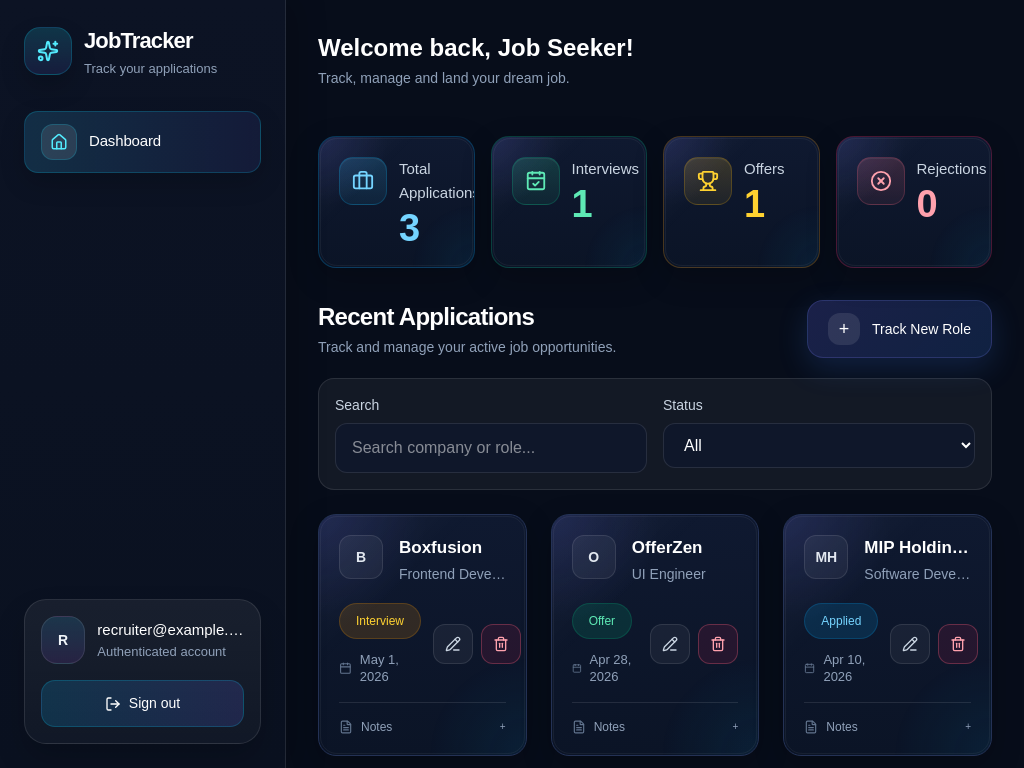
Test: Dashboard workflows › updates an edited application in the grid and stats
Check: the heading "Boxfusion" is shown, box [399,538,482,557]
Click the button named "Edit Boxfusion" at coordinates (453, 644), box [433,624,473,664]
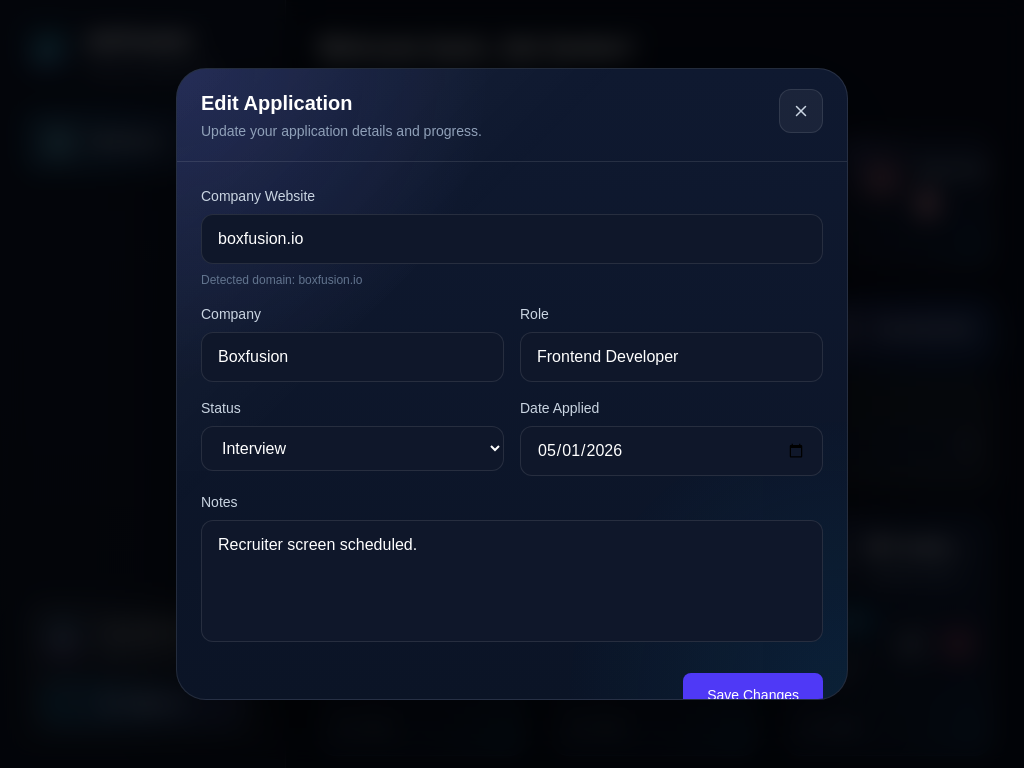
Type "Senior Frontend Developer" into the field labelled "Role" at coordinates (672, 357), box [520,332,823,382]
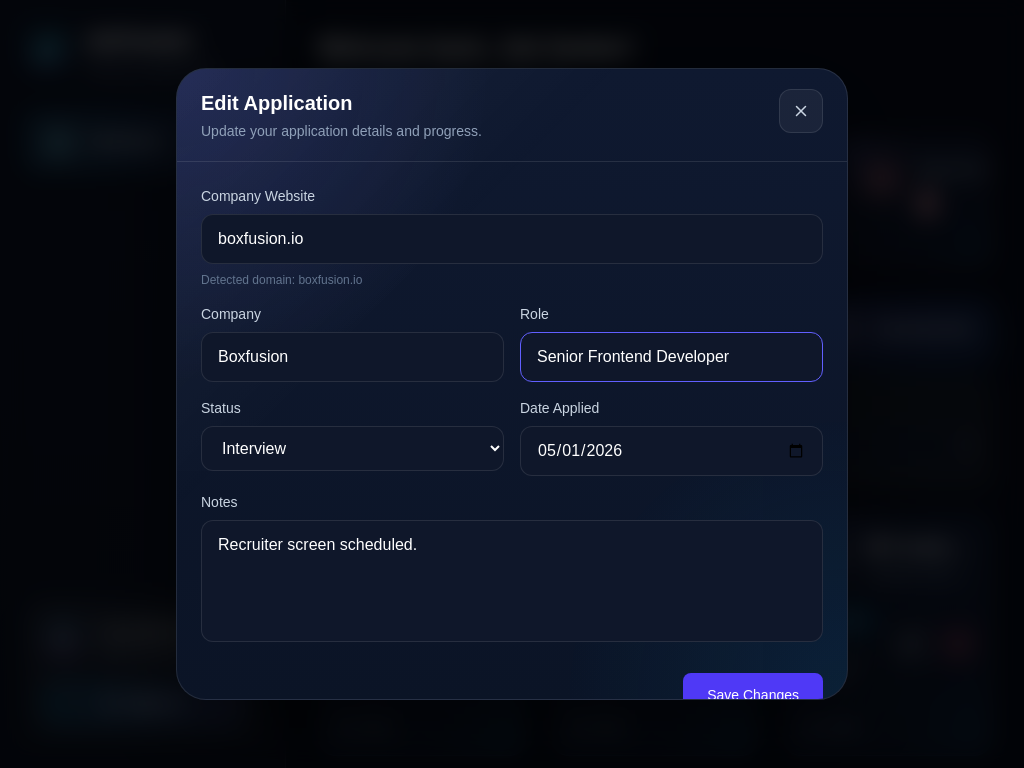
Select "Offer" in the dropdown labelled "Status" at coordinates (352, 448), box [201,426,504,471]
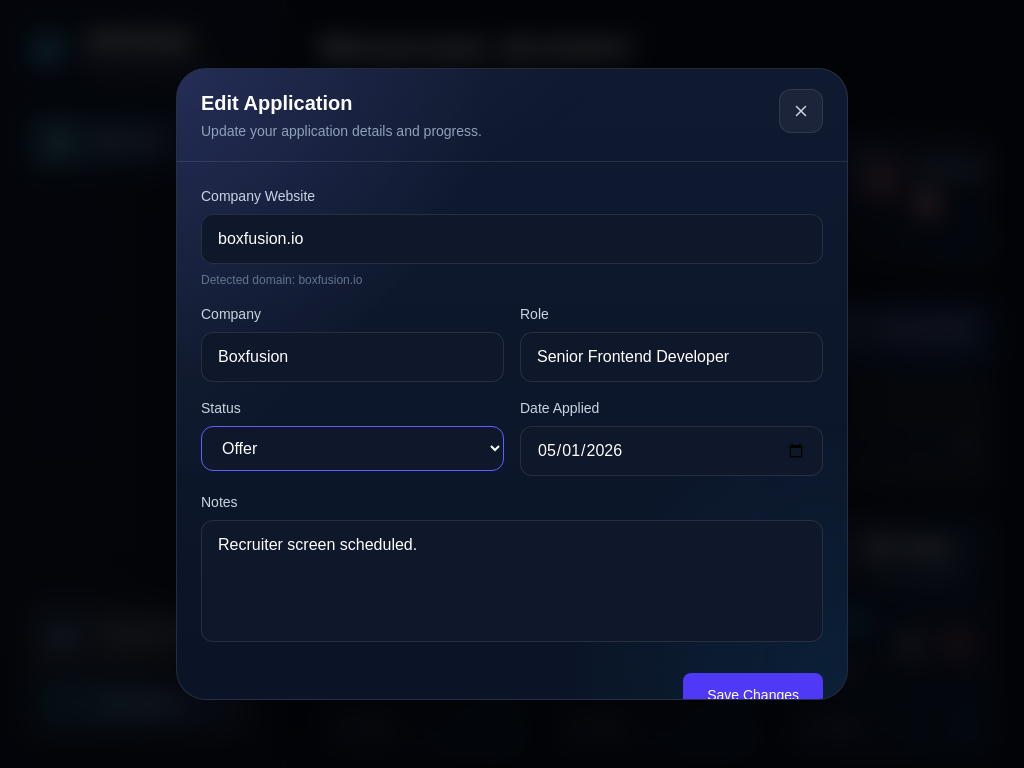
Click the button "Save Changes" at coordinates (753, 695), box [683,673,823,717]
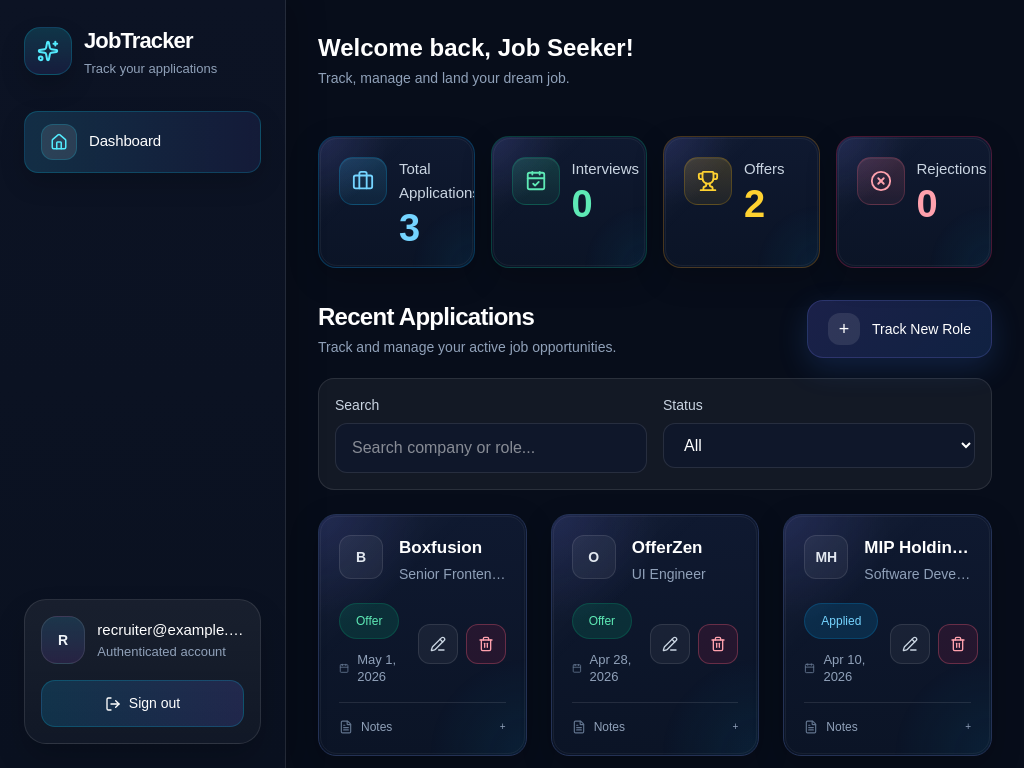
Check: the text "0" below "Interviews" is shown, box [572,183,591,225]
Check: the text "Senior Frontend Developer" is shown, box [399,564,506,583]
